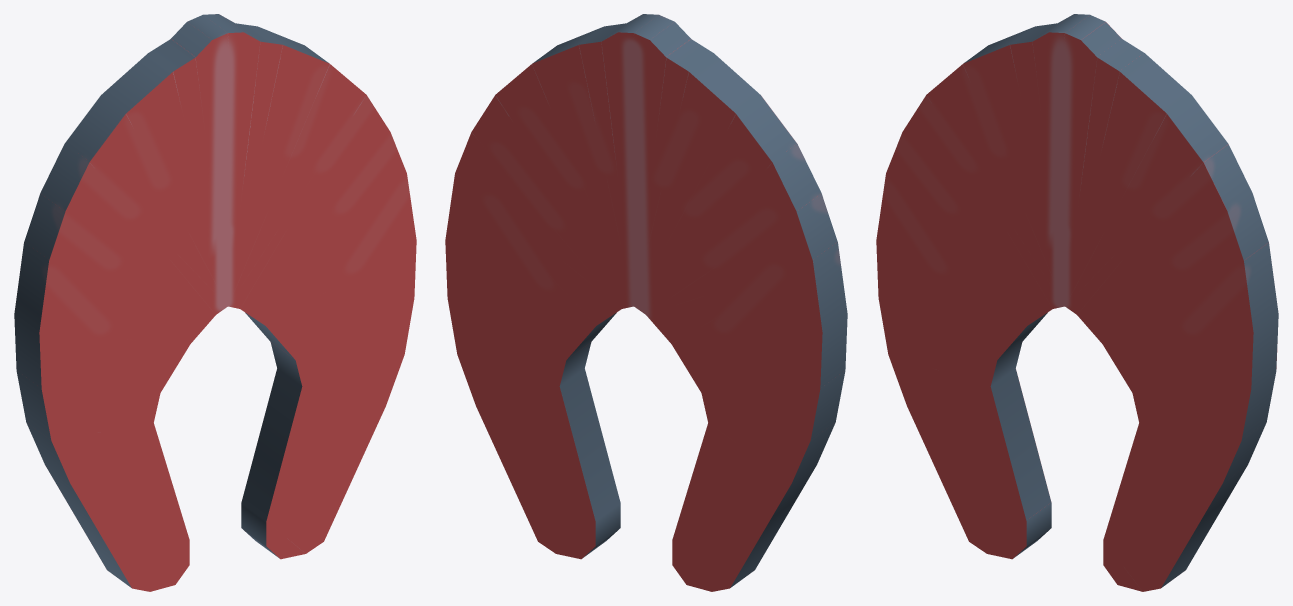
The model's file is fish.fbx.
3 renders of one model, left to right at view 1: azimuth 30°, elevation 25°; view 2: azimuth 150°, elevation 25°; view 3: azimuth 330°, elevation 25°, orthographic.
Visible parts, largest first — view 1: #fish2; view 2: #fish2; view 3: #fish2.
Part boxes in pixels (x1,y1,x2,y2): #fish2: (14, 14, 416, 591); #fish2: (445, 14, 847, 591); #fish2: (876, 14, 1278, 591).
Size of the model in its own units: 134 by 183 by 15.41.
1 material, 1 textured.
